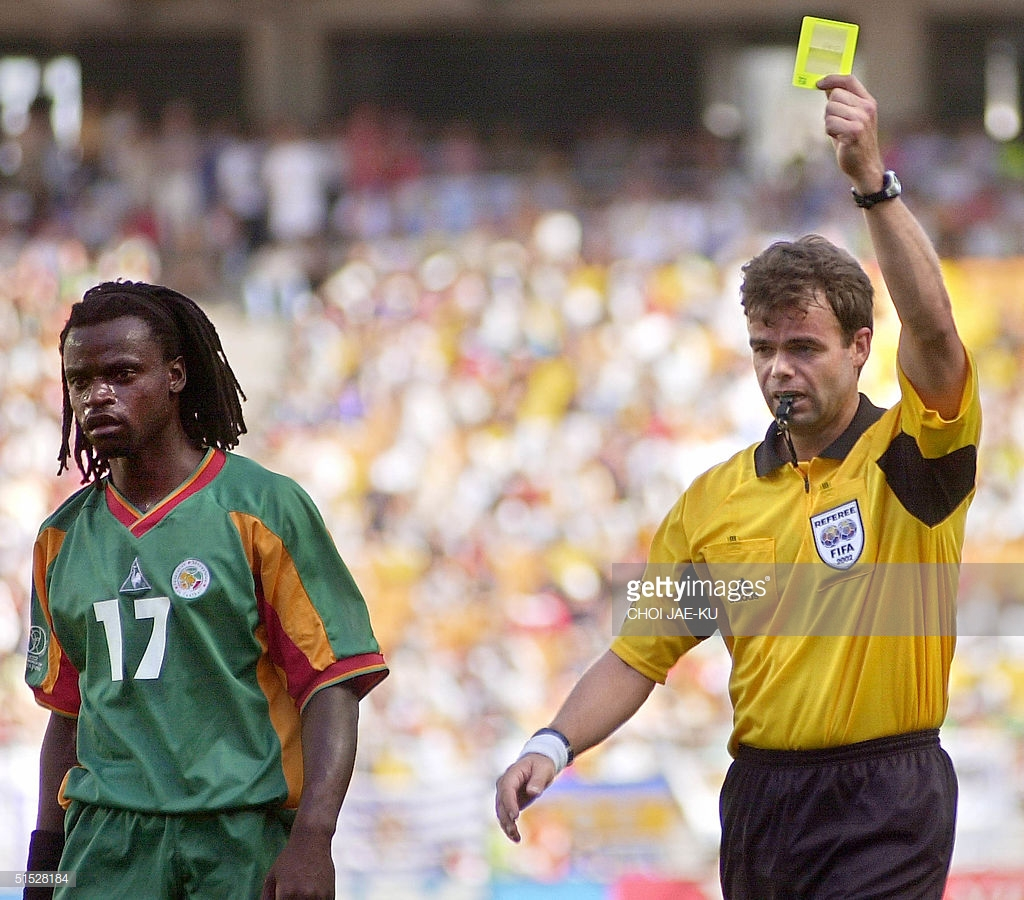yellow_card: (775, 15, 904, 174)
